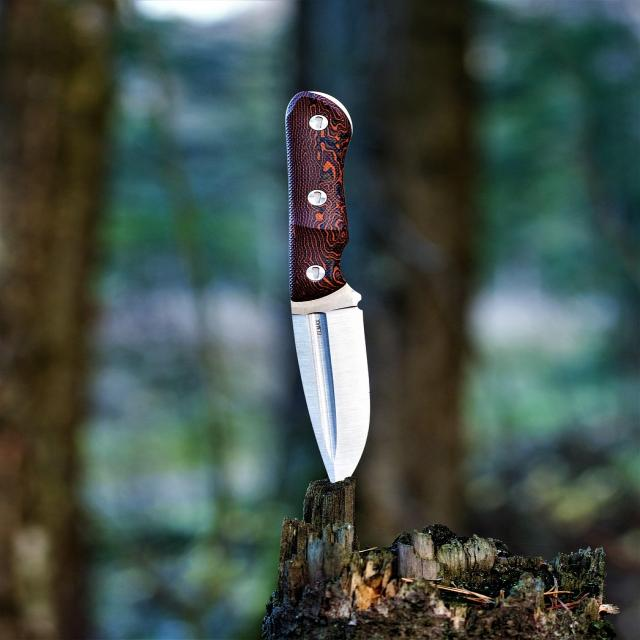Knife: (286, 92, 370, 482)
